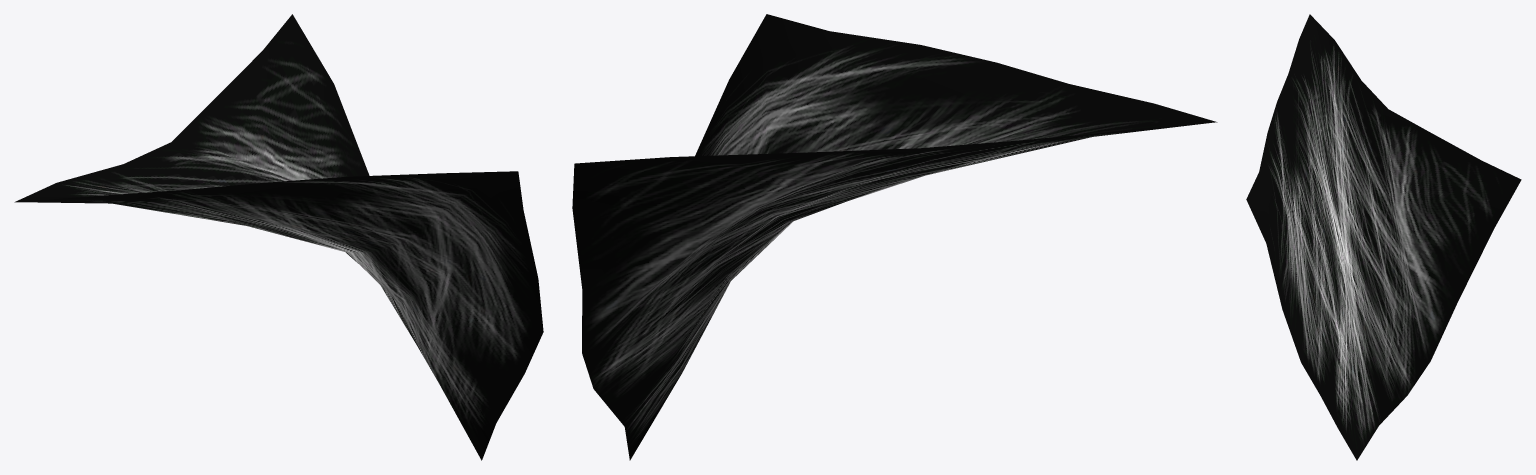
Rendered from SWORDLIGHT20_PS-AREA01_CORNERWEB20.fbx.
The picture shows the model from 3 angles, left to right: view 1: azimuth 30°, elevation 25°; view 2: azimuth 150°, elevation 25°; view 3: azimuth 270°, elevation 25°; orthographic projection. The views are drawn at different scales.
Parts seen in each view (by area): view 1: SWORDLIGHT20_PS-AREA01_CORNERWEB20; view 2: SWORDLIGHT20_PS-AREA01_CORNERWEB20; view 3: SWORDLIGHT20_PS-AREA01_CORNERWEB20.
Boxes of the visible parts, left/top/right/bottom form: SWORDLIGHT20_PS-AREA01_CORNERWEB20: left=14, top=14, right=543, bottom=460; SWORDLIGHT20_PS-AREA01_CORNERWEB20: left=572, top=14, right=1217, bottom=460; SWORDLIGHT20_PS-AREA01_CORNERWEB20: left=1246, top=14, right=1521, bottom=460.
Size of the model in its own units: 81925 by 60855 by 54453.
Materials: 1 (1 with a texture image).
